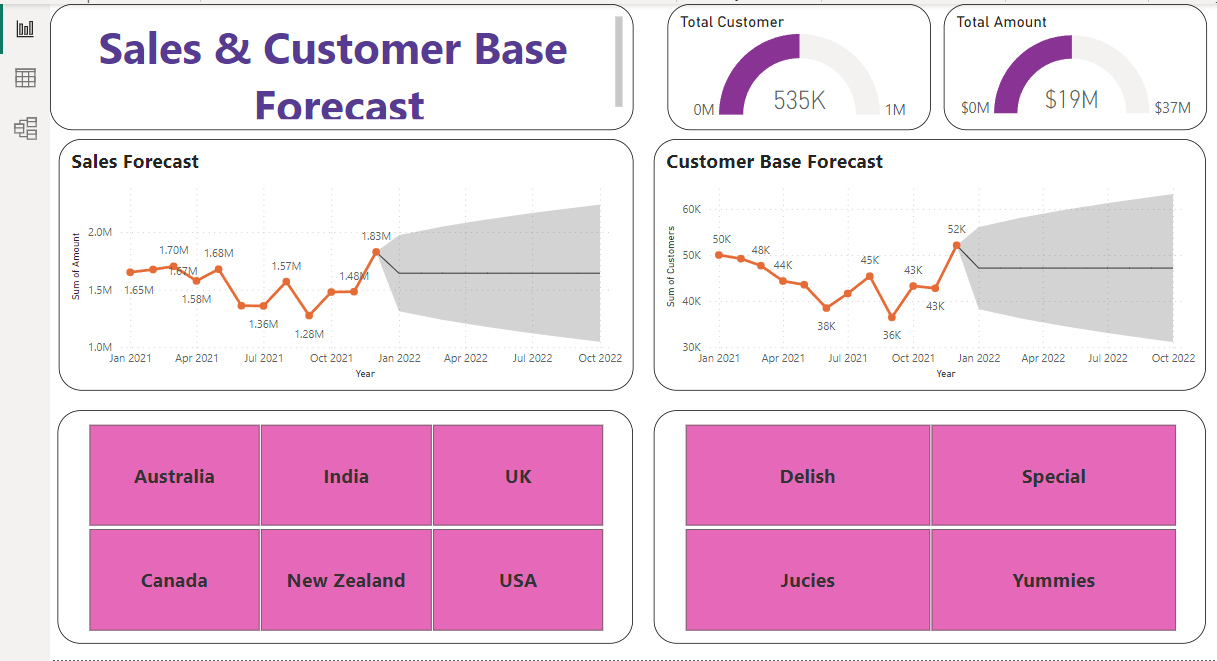

Layout of this report page (visuals, bound fields, positions):
{"tool":"powerbi","page":{"name":"Sales Forecast","canvas":[1280,720],"ordinal":2},"visuals":[{"type":"lineChart","title":"Sales Forecast","fields":{"Y":["Sum(sales.Amount)"],"Category":["sales.Date.Variation.Date Hierarchy.Year","sales.Date.Variation.Date Hierarchy.Quarter","sales.Date.Variation.Date Hierarchy.Month"]},"box":[10,148.6,630,275.7],"z":0},{"type":"lineChart","title":"Customer Base Forecast","fields":{"Y":["Sum(sales.Customers)"],"Category":["sales.Date.Variation.Date Hierarchy.Year","sales.Date.Variation.Date Hierarchy.Quarter","sales.Date.Variation.Date Hierarchy.Month"]},"box":[662.9,148.6,605.7,275.7],"z":1000},{"type":"slicer","fields":{"Values":["sales.Geography"]},"box":[8.6,445.7,631.4,255.7],"z":2000},{"type":"slicer","fields":{"Values":["people.Team"]},"box":[662.9,445.7,605.7,255.7],"z":3000},{"type":"gauge","fields":{"Y":["sales.Total Amount"]},"box":[980,0,288.6,138.6],"z":4000},{"type":"gauge","fields":{"Y":["sales.Total Customer"]},"box":[677.1,0,288.6,138.6],"z":5000},{"type":"textbox","box":[0,0,640.3,138.5],"z":6000}]}

Visuals, with their boxes in screenshot pixels (x1, y1, x2, y2):
"Sales Forecast" lineChart: bbox=(60, 138, 631, 388)
"Customer Base Forecast" lineChart: bbox=(652, 138, 1202, 388)
slicer - sales.Geography: bbox=(59, 408, 631, 640)
slicer - people.Team: bbox=(652, 408, 1202, 640)
gauge - sales.Total Amount: bbox=(940, 3, 1202, 129)
gauge - sales.Total Customer: bbox=(665, 3, 927, 129)
textbox: bbox=(51, 3, 632, 129)
